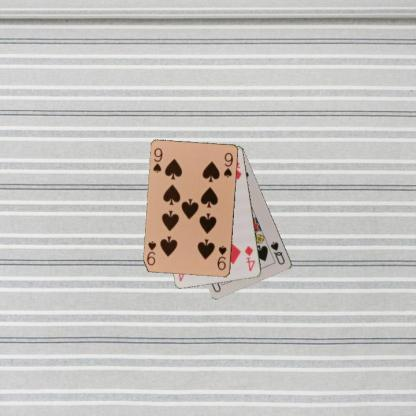4d: (242, 243, 257, 273)
9s: (215, 243, 228, 272), (151, 146, 163, 174)
Qs: (268, 239, 287, 266)
